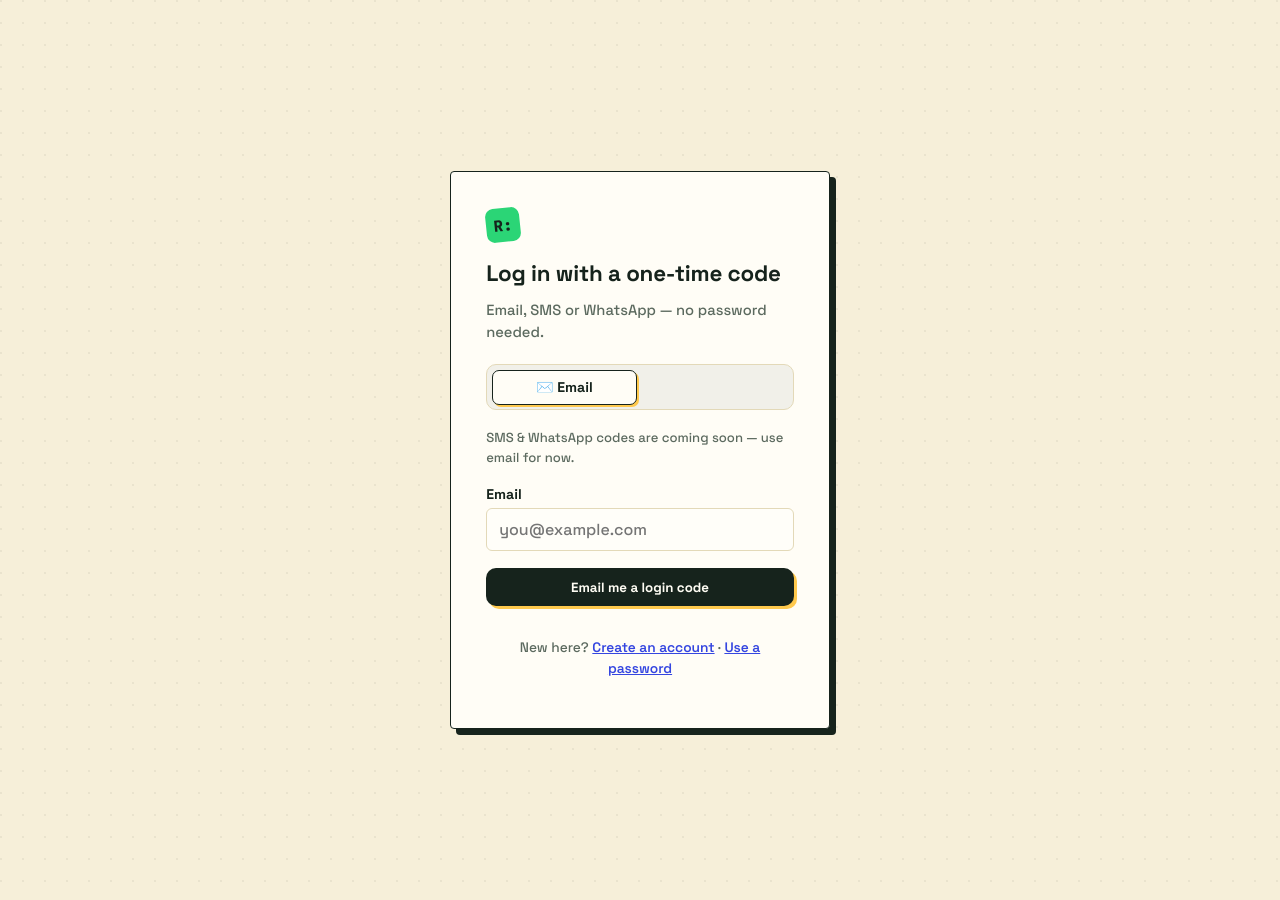
Test case: Login OTP flow › keeps the OTP screen open with an inline retry when sending fails
Expected: the heading "Log in with a one-time code" is shown, [486,259,794,288]
Type "sipho@example.com" into the field labelled "Email" at x=640, y=530, box [486,508,794,551]
Then press Enter
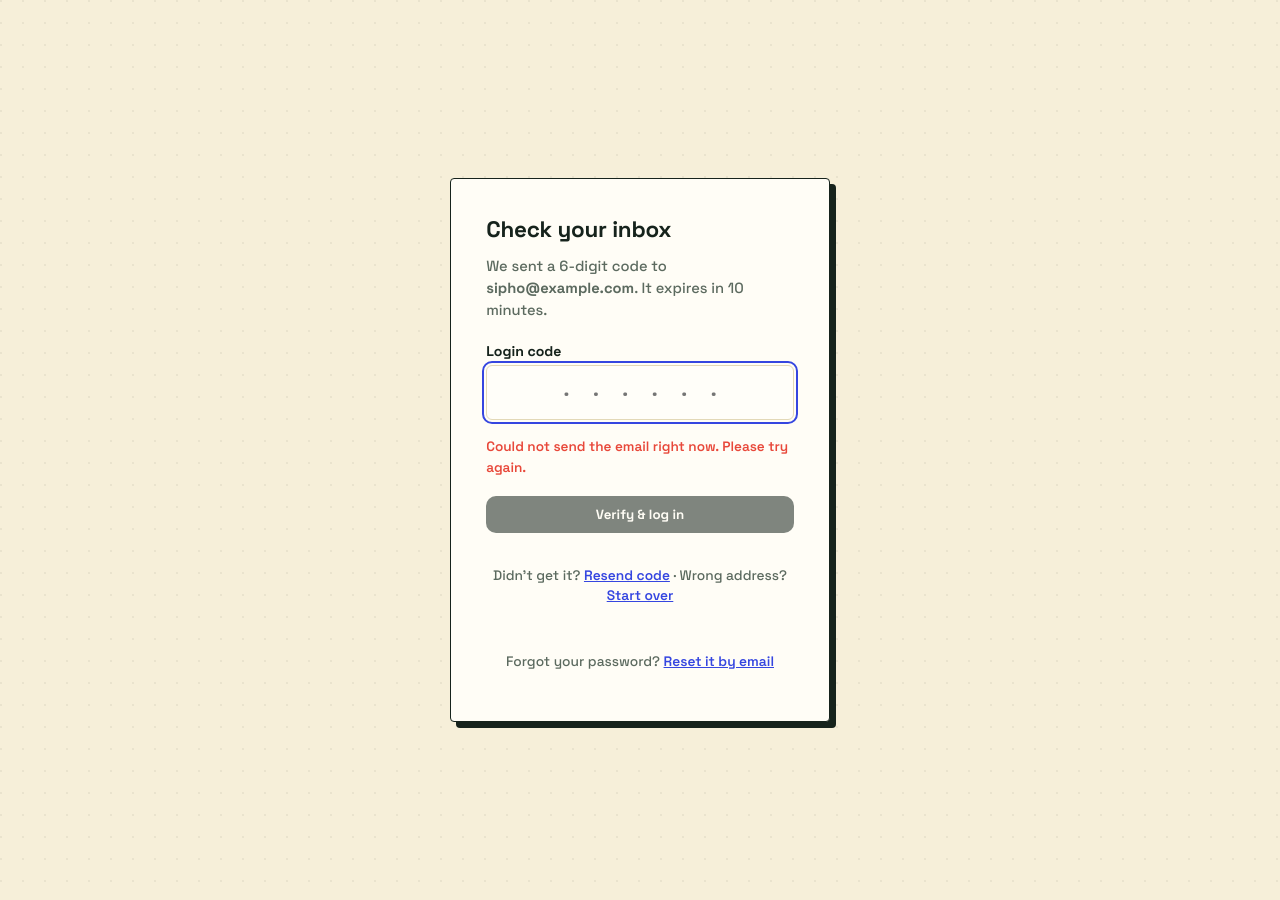
Now the text "Could not send the email right now. Please try again." is shown, box [486,437,794,478]
Now the field labelled "Login code" is shown, box [486,365,794,420]
Now the button "Resend code" is shown, box [584,566,670,584]
